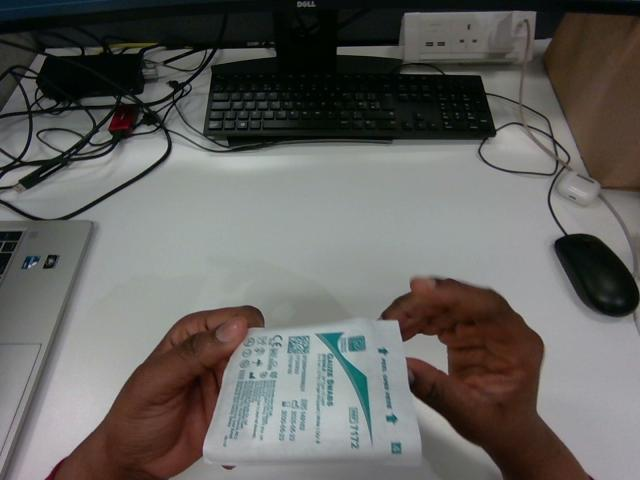gauze: (203, 319, 421, 465)
